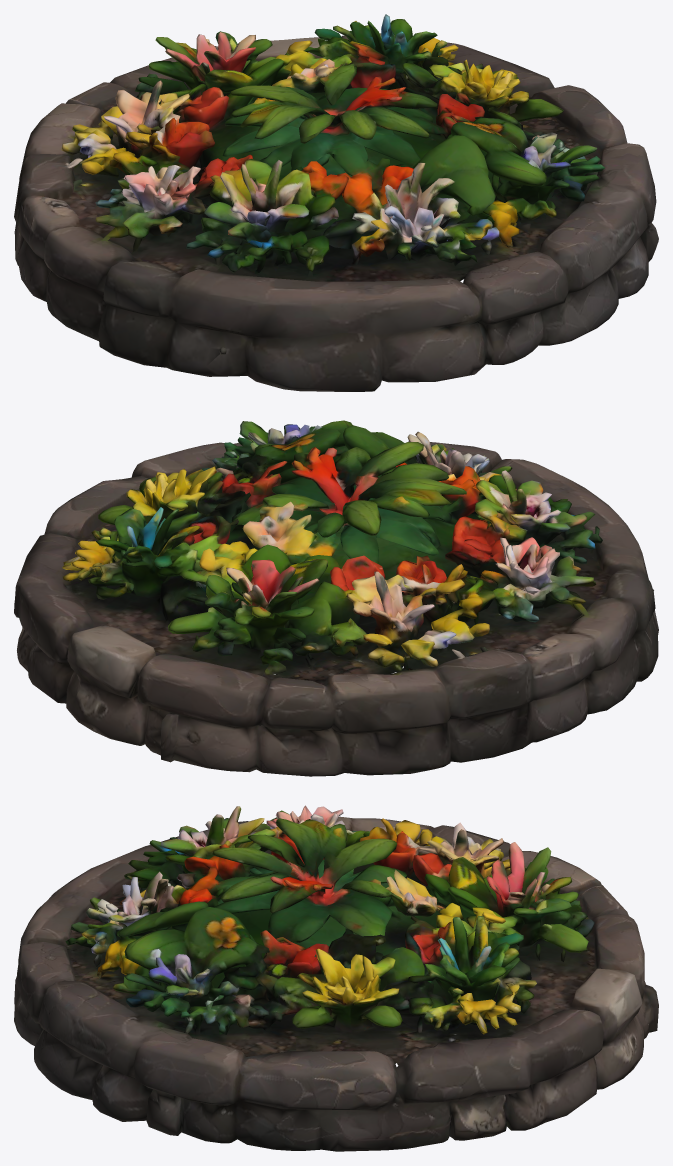
Rendered from plaza-flowerbed.glb.
3 views of the same model, one above another, from view 1: azimuth 30°, elevation 25°; view 2: azimuth 150°, elevation 25°; view 3: azimuth 270°, elevation 25° (orthographic). The views are drawn at different scales.
Visible parts, largest first — view 1: tripo_node_42688c47-0155-49b1-a8d7-f9590fcef80c; view 2: tripo_node_42688c47-0155-49b1-a8d7-f9590fcef80c; view 3: tripo_node_42688c47-0155-49b1-a8d7-f9590fcef80c.
Part boxes in pixels (x1,y1,x2,y2): tripo_node_42688c47-0155-49b1-a8d7-f9590fcef80c: [14, 14, 658, 391]; tripo_node_42688c47-0155-49b1-a8d7-f9590fcef80c: [14, 420, 658, 776]; tripo_node_42688c47-0155-49b1-a8d7-f9590fcef80c: [14, 805, 658, 1151].
Bounding box in the file's own units: 3.34 × 0.9987 × 3.44.
Materials: 1 (1 with a texture image).
